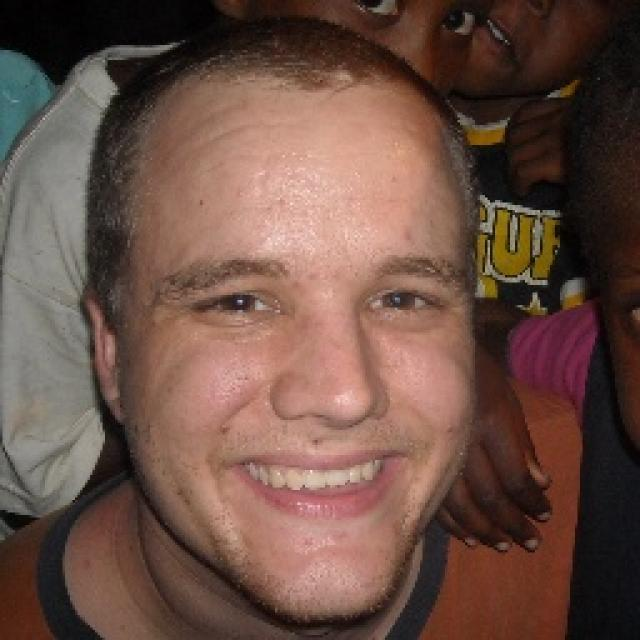earlobe: (82, 291, 130, 430)
